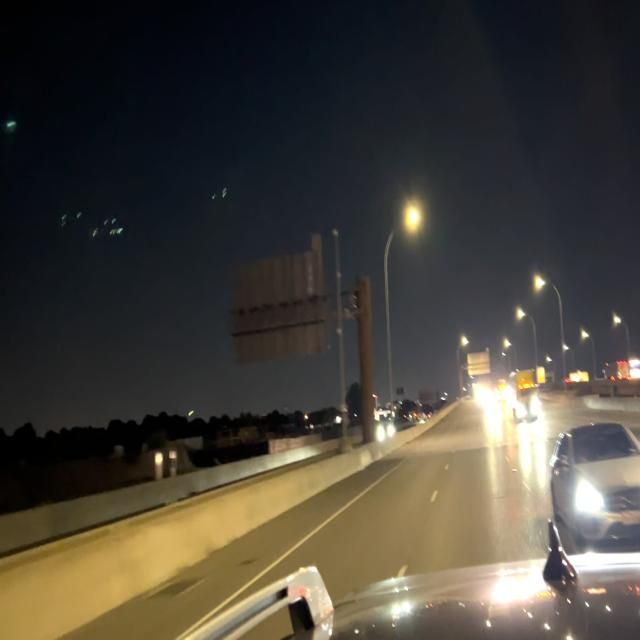back-of-sign: (233, 234, 326, 362), (468, 347, 491, 379)
